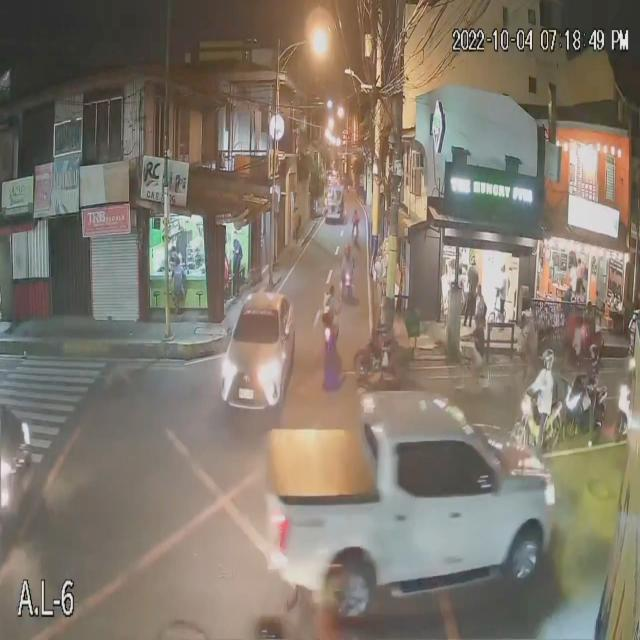Full-Faced: (540, 341, 554, 372), (588, 342, 601, 363), (342, 239, 352, 258)
Not-Wearing-Helmet: (328, 283, 341, 295)
